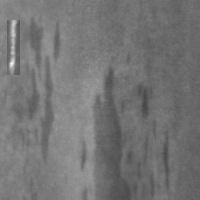inclusion: (76, 62, 141, 200), (11, 13, 62, 171), (126, 119, 171, 200), (133, 79, 156, 121)
scratches: (7, 20, 20, 75)
